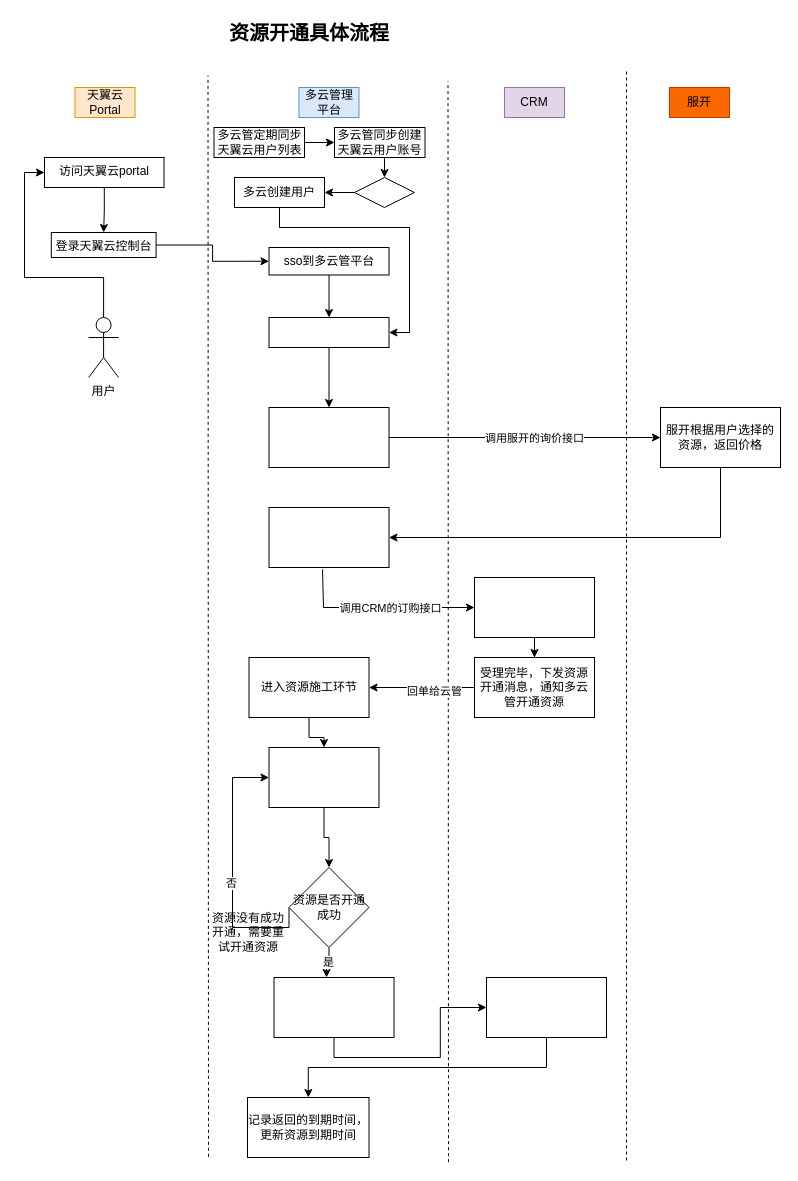
Image size: 798x1181. Some labels were removed from this diagram. Here are the shapes that lost their labels. From the top down, the centre of each, then its label:
the point at 384,192: 判断用户是否存在
the point at 328,332: 调用天翼云查询用户详情接口
the point at 328,437: 选择创建资源的参数，调用服开的询价接口
the point at 328,537: 展示价格到当前界面，提交订单到CRM
the point at 534,607: 受理云管提交的订单
the point at 323,777: 开通资源 （包含虚机、磁盘、弹性ip等）
the point at 333,1007: 资源开通完成，回单开通资源的具体信息 给crm
the point at 546,1007: 记录云管返回的信息，返回虚机到期时间等信息给云管
